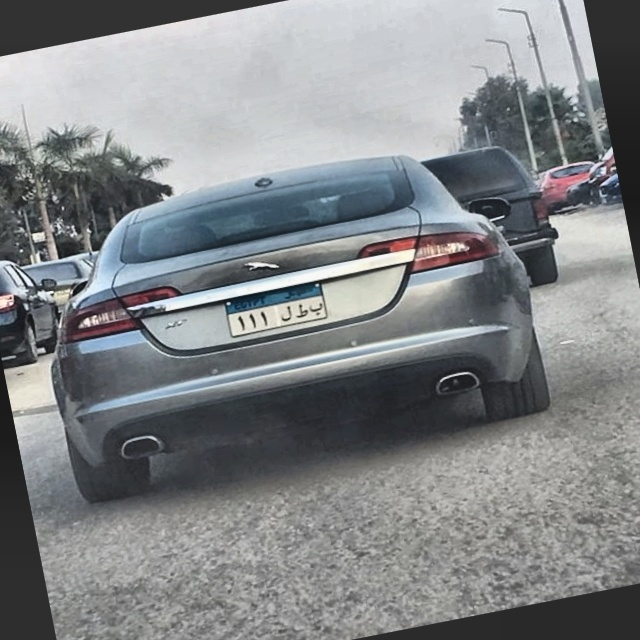License Plate: (221, 279, 330, 339)
